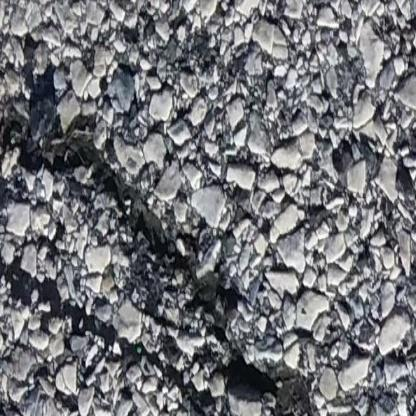Cracks: (0, 32, 374, 416)
